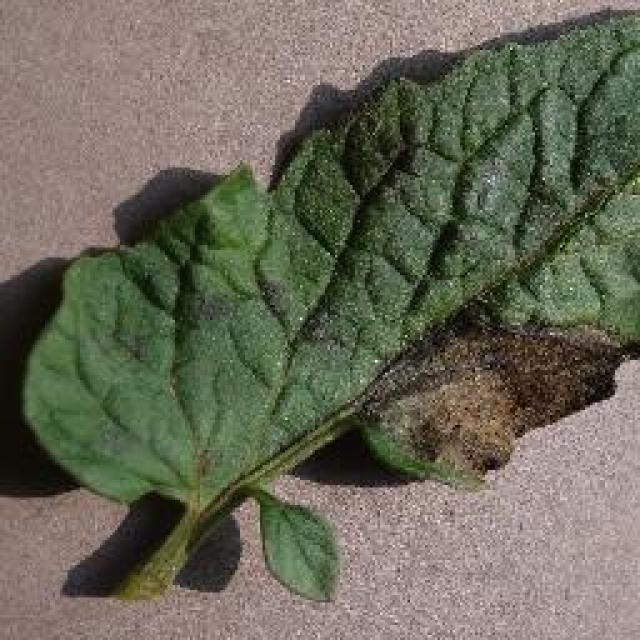Tomato_Late_Blight: (371, 304, 637, 463), (298, 85, 474, 198)
